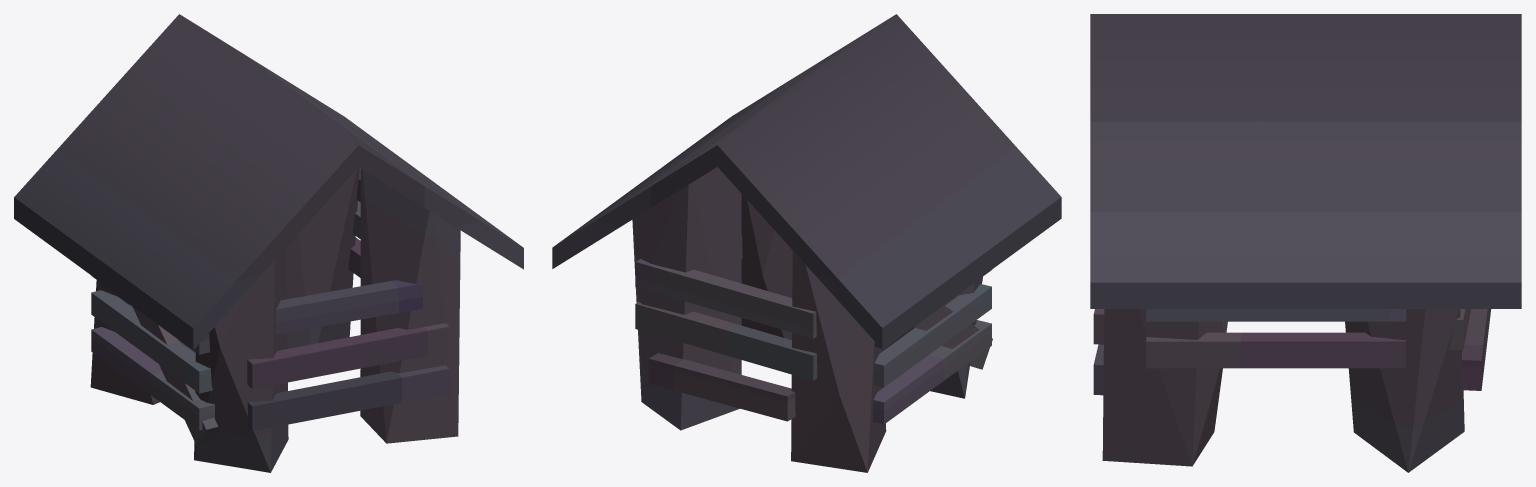
The model's file is SS_Cabin2.fbx.
3 renders of one model, left to right at view 1: azimuth 30°, elevation 25°; view 2: azimuth 150°, elevation 25°; view 3: azimuth 270°, elevation 25°, orthographic. The views are drawn at different scales.
Visible parts, largest first — view 1: Cabin2; view 2: Cabin2; view 3: Cabin2.
Part boxes in pixels (bbox=[...]): Cabin2: bbox=[14, 14, 523, 472]; Cabin2: bbox=[552, 14, 1061, 472]; Cabin2: bbox=[1090, 14, 1521, 472].
Size of the model in its own units: 5.54 by 5.15 by 5.21.
